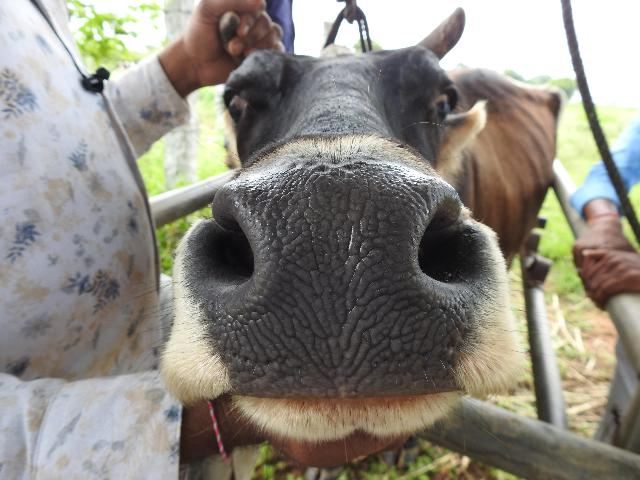Muzzle: (244, 182, 412, 378)
